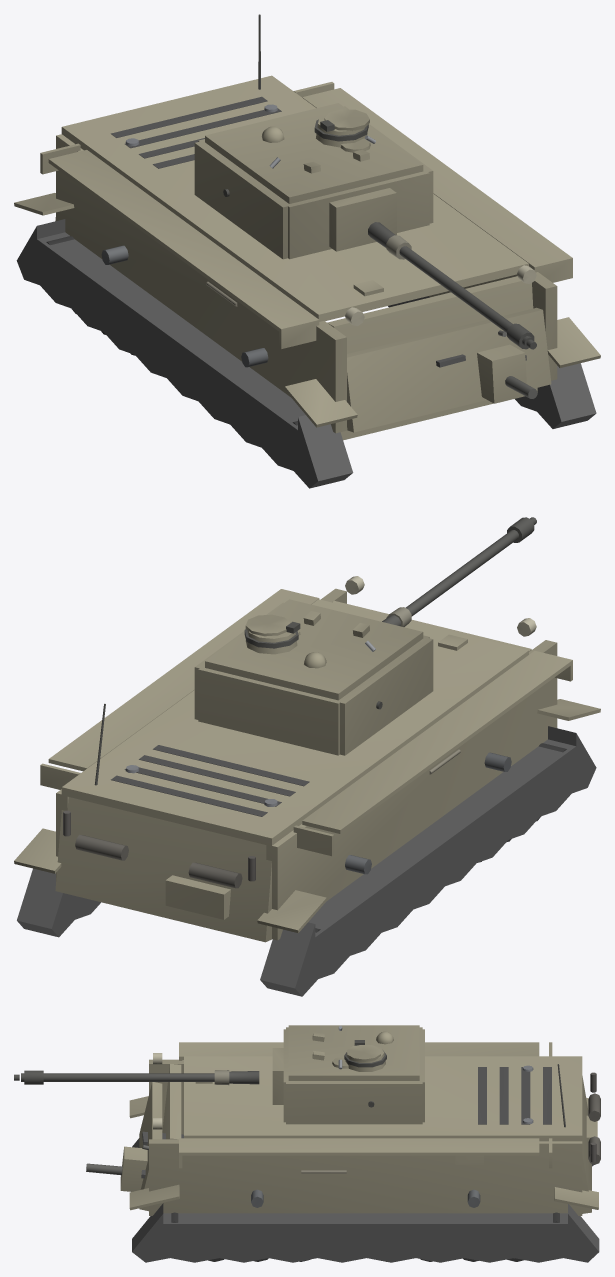
The picture shows the model from 3 angles, top to bottom: view 1: azimuth 30°, elevation 25°; view 2: azimuth 150°, elevation 25°; view 3: azimuth 270°, elevation 25°; orthographic projection. The views are drawn at different scales.
Visible parts, largest first — view 1: hullSide, tracks, hullTop, lowerPlate, turretRoof, glacis, turretSide, turretFront, mantlet, barrel; view 2: hullSide, hullTop, tracks, hullRear, turretRoof, turretRear, turretSide, barrel, glacis; view 3: hullSide, tracks, hullTop, turretRoof, turretSide, glacis, barrel, hullRear, lowerPlate, mantlet, turretFront, turretRear.
Part boxes in pixels (x1,y1,x2,y2): hullSide: (40,82,572,433); tracks: (14,193,600,488); hullTop: (61,75,528,321); lowerPlate: (347,307,551,432); turretRoof: (205,103,423,203); glacis: (327,276,537,440); turretSide: (194,106,433,259); turretFront: (283,172,429,259); mantlet: (329,188,396,251); barrel: (368,222,536,349); hullSide: (40,576,572,940); hullTop: (61,599,528,846); tracks: (14,699,600,996); hullRear: (55,703,271,942); turretRoof: (205,599,423,700); turretRear: (198,665,343,755); turretSide: (194,602,433,755); barrel: (382,517,536,626); glacis: (332,600,531,651); hullSide: (149,1042,582,1215); tracks: (129,1096,599,1262); hullTop: (184,1056,582,1141); turretRoof: (288,1025,419,1080); turretSide: (286,1027,422,1124); glacis: (86,1064,212,1191); barrel: (14,1070,259,1085); hullRear: (557,1064,600,1213); lowerPlate: (139,1082,162,1211); mantlet: (272,1048,283,1104); turretFront: (283,1029,294,1122); turretRear: (416,1029,424,1122).
Size of the model in its own units: 4.58 by 3.42 by 10.3.
